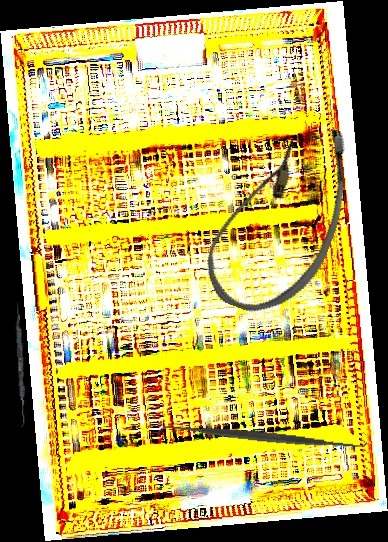Cannula: (193, 102, 370, 331)
Spatula Surgical: (156, 414, 368, 460), (12, 301, 29, 428)
